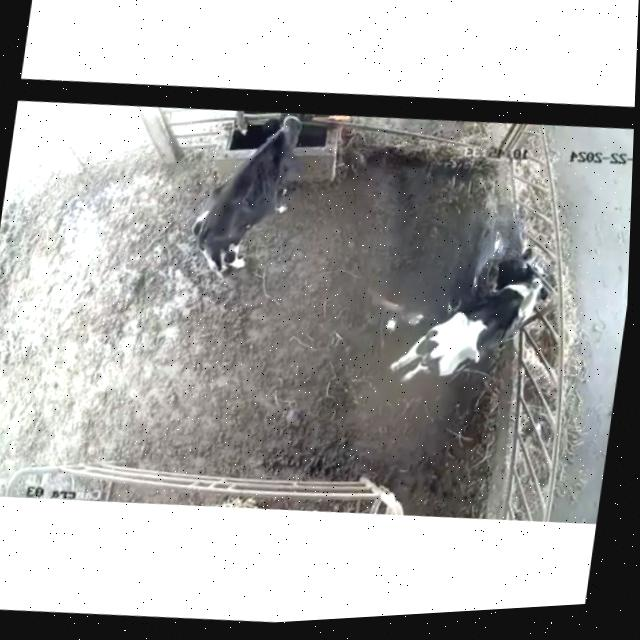drink: (236, 103, 323, 180)
eat: (502, 254, 592, 330)
